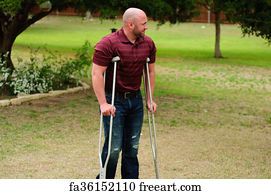crutches: (91, 7, 160, 180)
